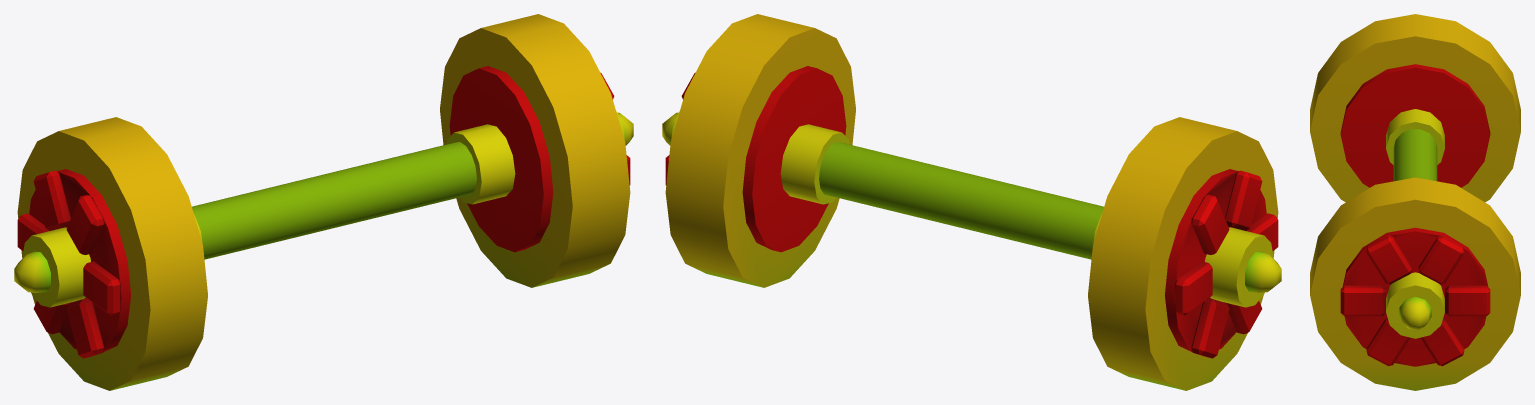
The model's file is RobotRocket_wheel1.glb.
3 renders of one model, left to right at view 1: azimuth 30°, elevation 25°; view 2: azimuth 150°, elevation 25°; view 3: azimuth 270°, elevation 25°, orthographic. The views are drawn at different scales.
Visible parts, largest first — view 1: RobotRocket_wheel1; view 2: RobotRocket_wheel1; view 3: RobotRocket_wheel1.
Boxes of the visible parts, x1,y1,x2,y2 form: RobotRocket_wheel1: [14, 14, 633, 390]; RobotRocket_wheel1: [662, 14, 1281, 390]; RobotRocket_wheel1: [1310, 14, 1520, 390].
Bounding box in the file's own units: 2.17 × 0.816 × 0.816.
